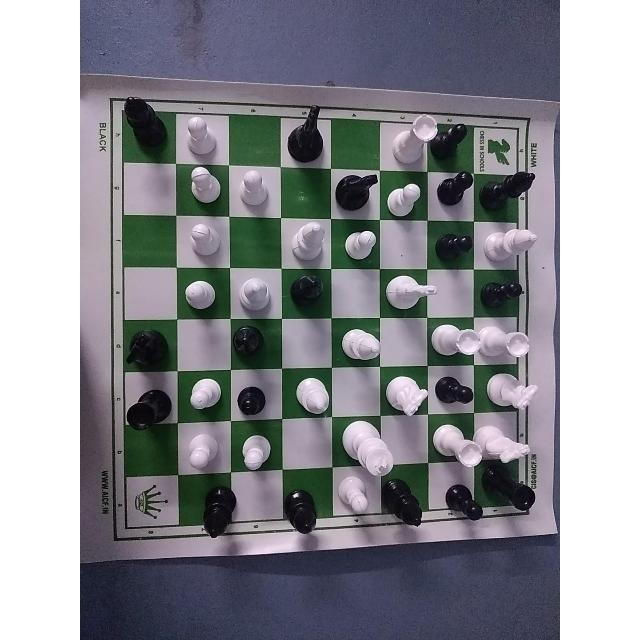black-bishop: (121, 91, 171, 165), (273, 483, 331, 539), (193, 483, 245, 545), (483, 168, 538, 216), (282, 271, 331, 321), (382, 480, 423, 537), (230, 321, 273, 369)
black-knight: (280, 99, 336, 159), (341, 163, 385, 221), (120, 327, 172, 375)
black-pawn: (431, 476, 483, 534), (428, 366, 474, 412), (485, 270, 529, 315), (437, 167, 473, 213), (235, 383, 276, 423), (440, 107, 470, 160), (439, 223, 474, 267)
black-rook: (487, 467, 550, 517), (127, 384, 174, 437)
white-bishop: (285, 215, 331, 265), (341, 319, 385, 366), (230, 275, 275, 317), (294, 373, 336, 415), (488, 224, 536, 260)
white-king: (336, 420, 394, 476)
white-knight: (480, 410, 540, 466), (383, 272, 438, 316), (486, 365, 538, 409), (383, 373, 429, 421)
white-pawn: (181, 221, 227, 265), (186, 367, 225, 415), (341, 223, 381, 269), (240, 432, 284, 472), (183, 267, 218, 315), (187, 164, 225, 208), (338, 474, 372, 522), (388, 172, 424, 217), (186, 432, 222, 476), (181, 112, 214, 158), (240, 167, 274, 211)
white-rook: (386, 113, 436, 171), (430, 317, 481, 369), (429, 420, 475, 472), (479, 319, 529, 365)
